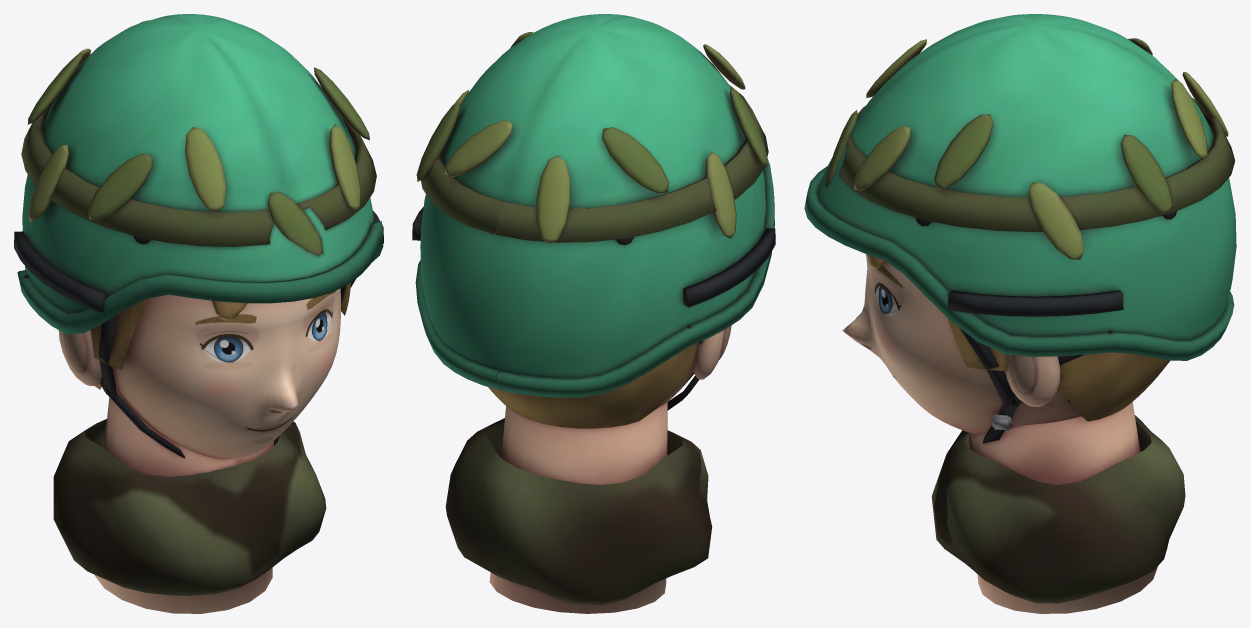
Rendered from cabeza-sniper-m.glb.
3 renders of one model, left to right at view 1: azimuth 30°, elevation 25°; view 2: azimuth 150°, elevation 25°; view 3: azimuth 270°, elevation 25°, orthographic.
Visible parts, largest first — view 1: h_Head; view 2: h_Head; view 3: h_Head.
Boxes of the visible parts, <box> form: h_Head: <box>14,14,383,613</box>; h_Head: <box>412,14,775,613</box>; h_Head: <box>804,14,1236,613</box>.
Size of the model in its own units: 0.245 by 0.4226 by 0.2968.
1 material, 1 textured.
